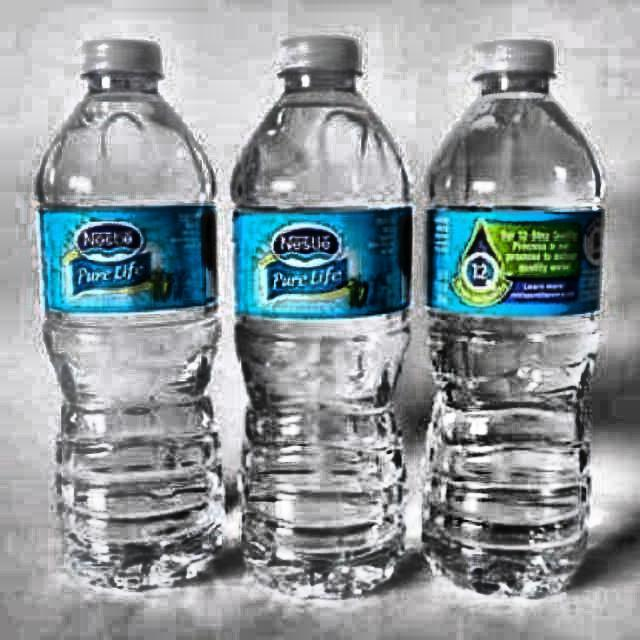Bottles: (32, 32, 237, 586), (418, 35, 606, 602)
